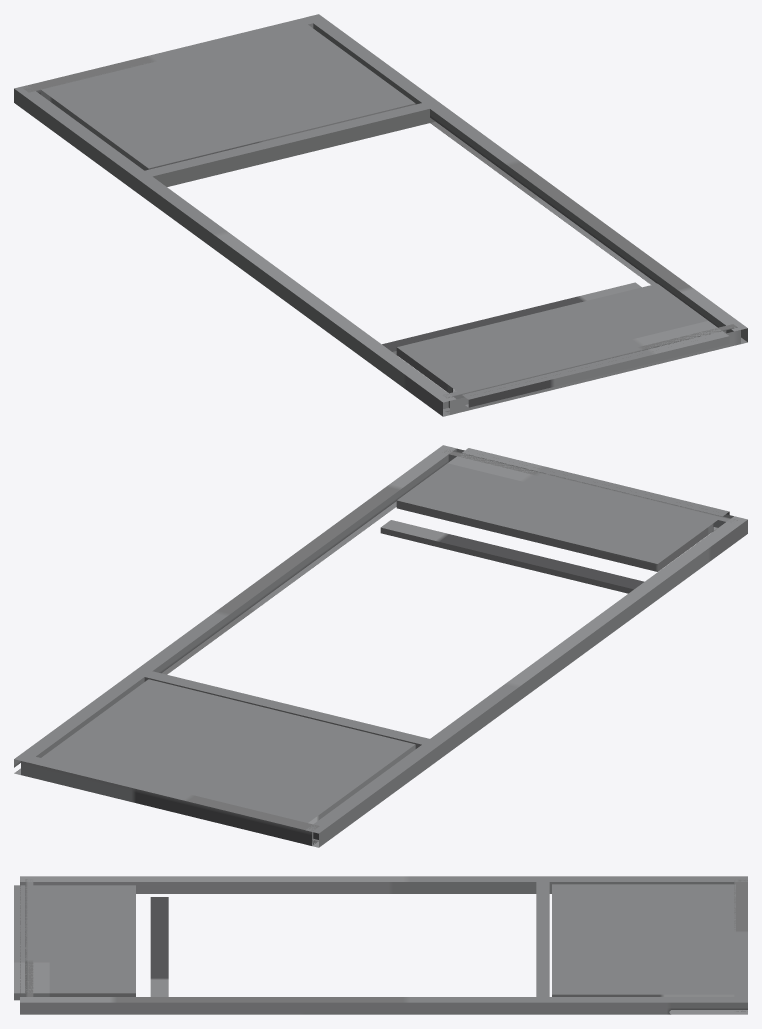
3 views of the same model, one above another, from view 1: azimuth 30°, elevation 25°; view 2: azimuth 150°, elevation 25°; view 3: azimuth 270°, elevation 25° (orthographic). The views are drawn at different scales.
Bounding box in the file's own units: 1 × 0.0565 × 2.47.
